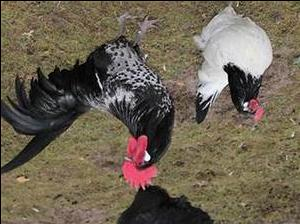hen: (1, 10, 175, 190), (192, 1, 273, 126), (115, 183, 214, 224)
